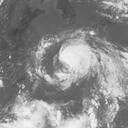cyclone: (37, 33, 96, 89)
